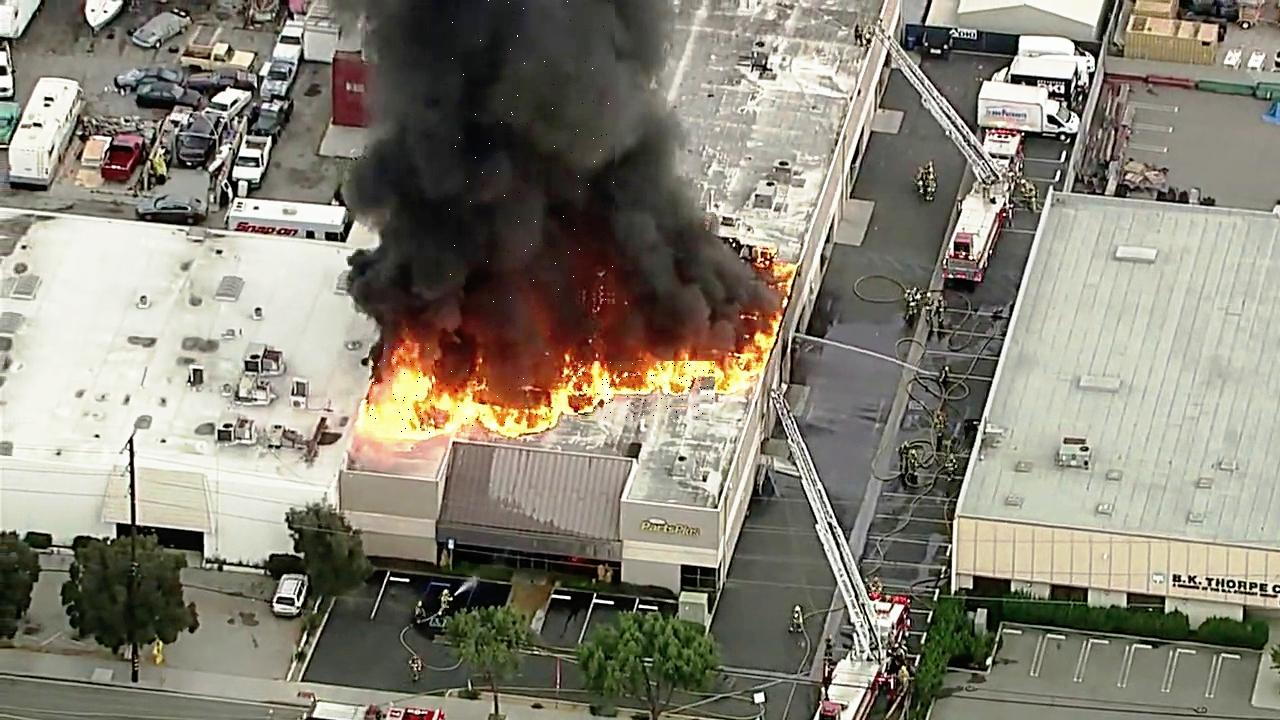fire: (449, 370, 580, 432), (578, 362, 715, 419), (369, 344, 435, 434)
smoke: (444, 1, 615, 304)
